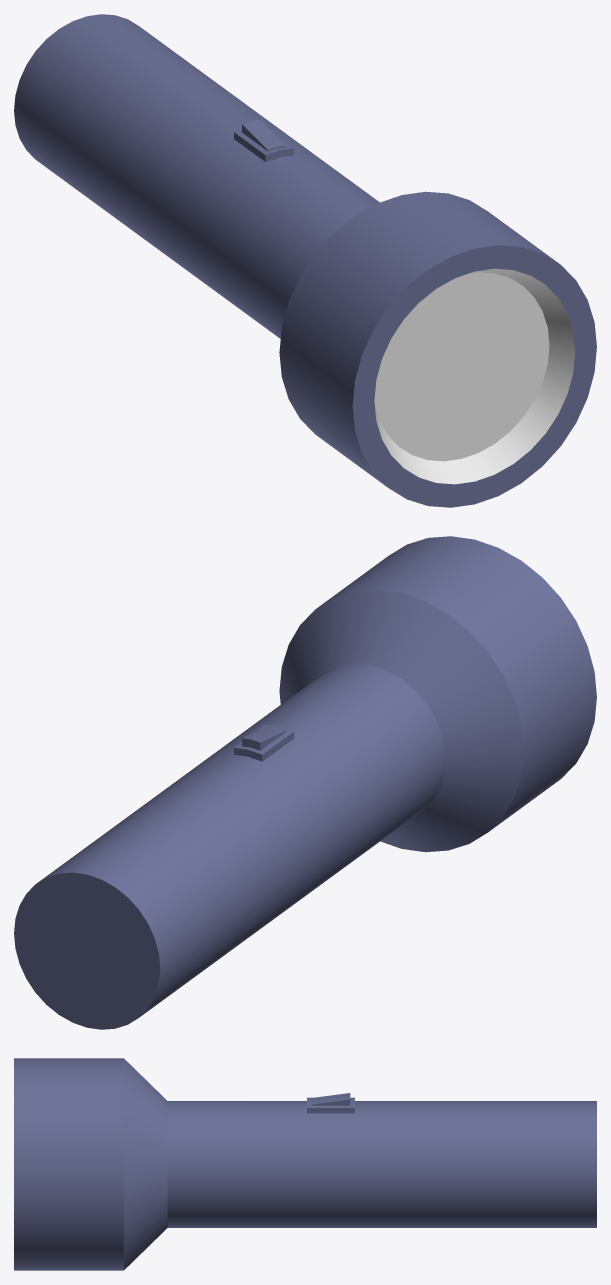
Rendered from Torch.fbx.
3 views of the same model, one above another, from view 1: azimuth 30°, elevation 25°; view 2: azimuth 150°, elevation 25°; view 3: azimuth 270°, elevation 25° (orthographic). The views are drawn at different scales.
Visible parts, largest first — view 1: Cylinder; view 2: Cylinder; view 3: Cylinder.
Part boxes in pixels (bbox=[...]): Cylinder: bbox=[14, 14, 596, 507]; Cylinder: bbox=[14, 536, 596, 1029]; Cylinder: bbox=[14, 1058, 596, 1270].
Bounding box in the file's own units: 108 × 108 × 296.
